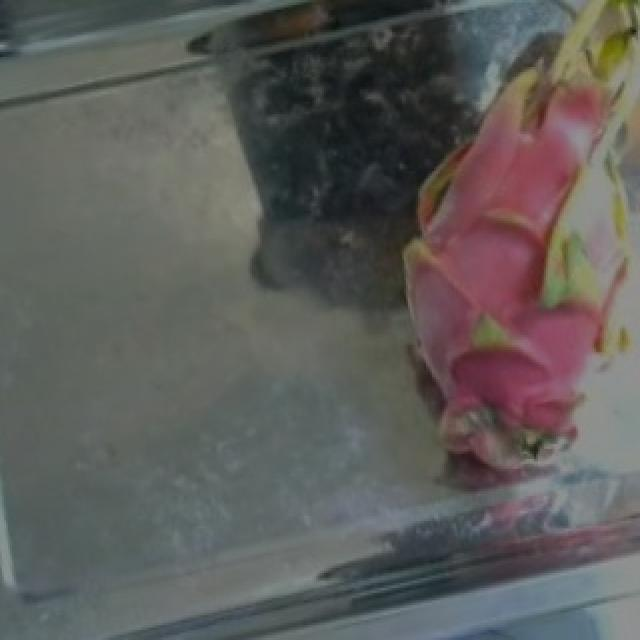fruit: (316, 2, 640, 474)
